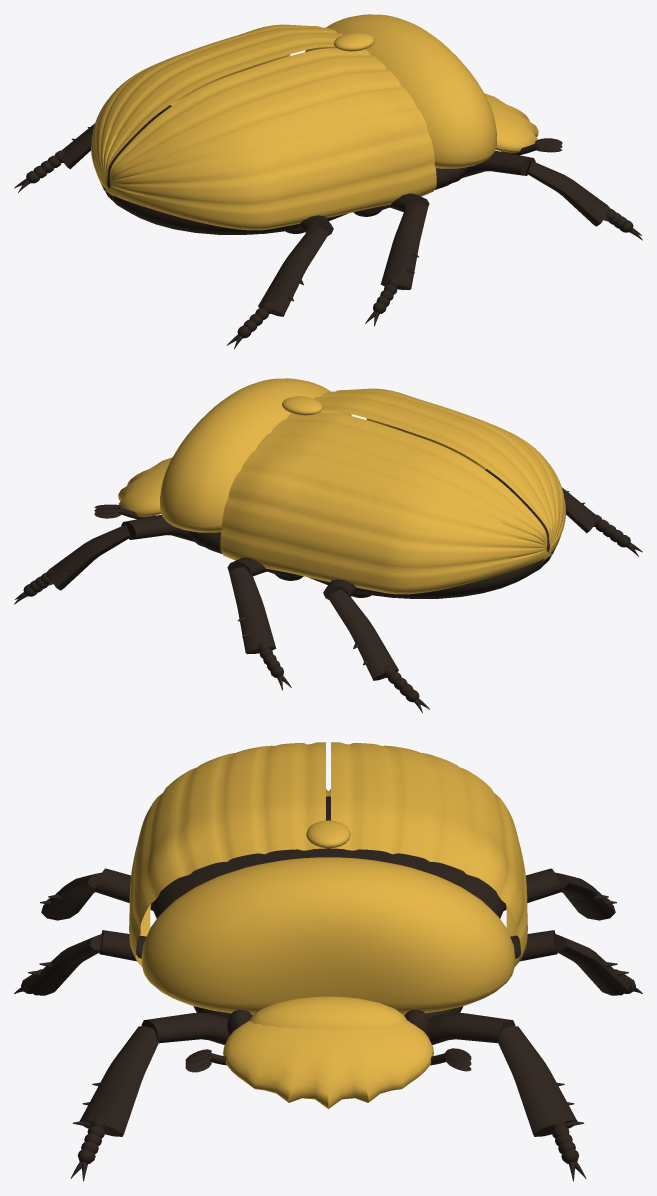
File: SM_Critter.glb
3 views of the same model, one above another, from view 1: azimuth 30°, elevation 25°; view 2: azimuth 150°, elevation 25°; view 3: azimuth 270°, elevation 25° (orthographic). The views are drawn at different scales.
Visible parts, largest first — view 1: SM_Critter; view 2: SM_Critter; view 3: SM_Critter.
Part boxes in pixels (x1=…): SM_Critter: x1=14, y1=14, x2=642, y2=349; SM_Critter: x1=14, y1=378, x2=642, y2=713; SM_Critter: x1=14, y1=742, x2=642, y2=1181.
Bounding box in the file's own units: 1.63 × 0.63 × 1.55.
